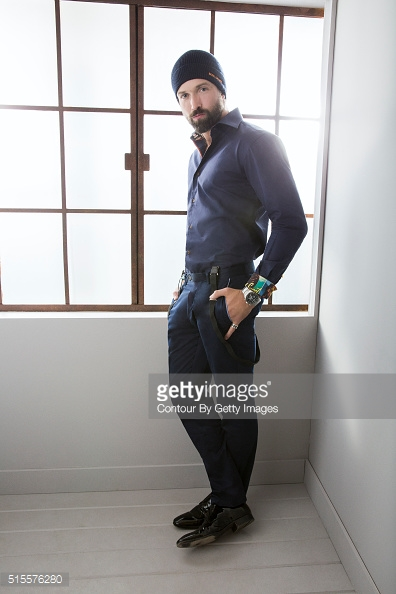em pe: (141, 46, 302, 424)
